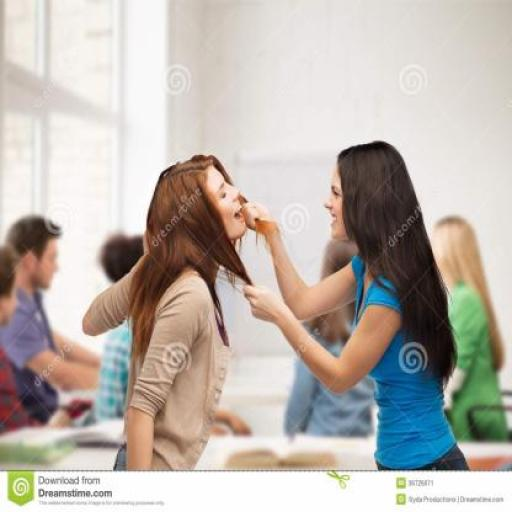Fighting: (82, 139, 473, 470)
